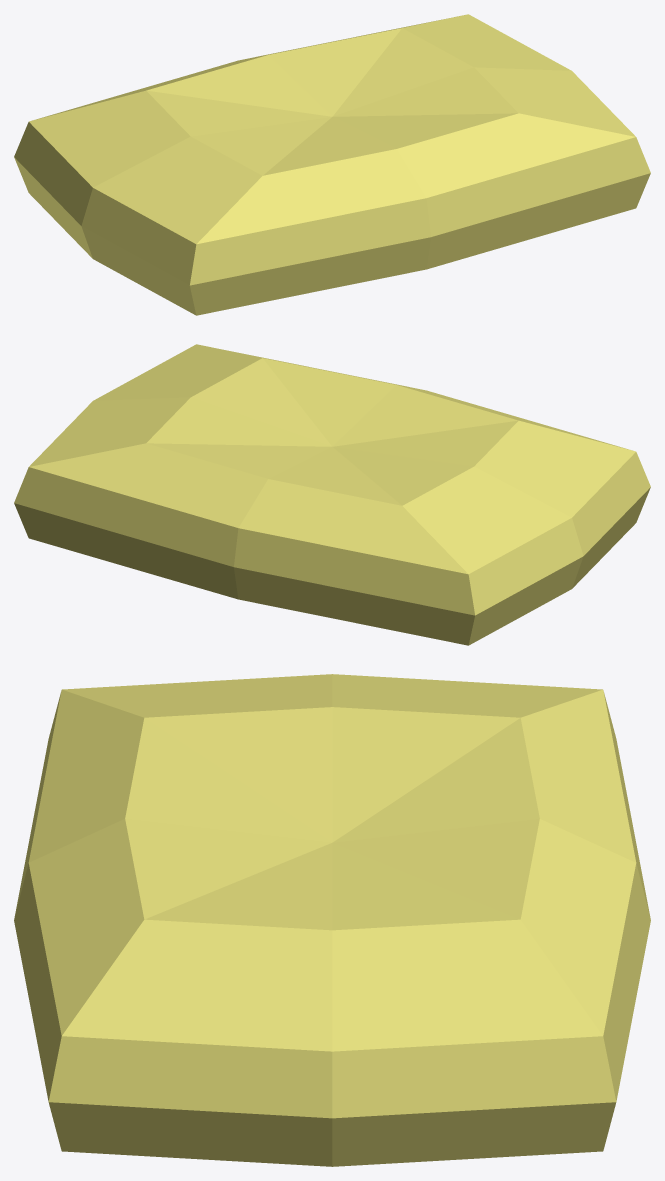
File: Itr_Bed_Pillow_09.FBX
The picture shows the model from 3 angles, top to bottom: view 1: azimuth 30°, elevation 25°; view 2: azimuth 150°, elevation 25°; view 3: azimuth 270°, elevation 25°; orthographic projection. The views are drawn at different scales.
Parts seen in each view (by area): view 1: Itr_Bed_Pillow_09; view 2: Itr_Bed_Pillow_09; view 3: Itr_Bed_Pillow_09.
Boxes of the visible parts, x1,y1,x2,y2 form: Itr_Bed_Pillow_09: (14,14,650,315); Itr_Bed_Pillow_09: (14,344,650,645); Itr_Bed_Pillow_09: (14,674,650,1166).
Size of the model in its own units: 21.39 by 4.02 by 14.55.
